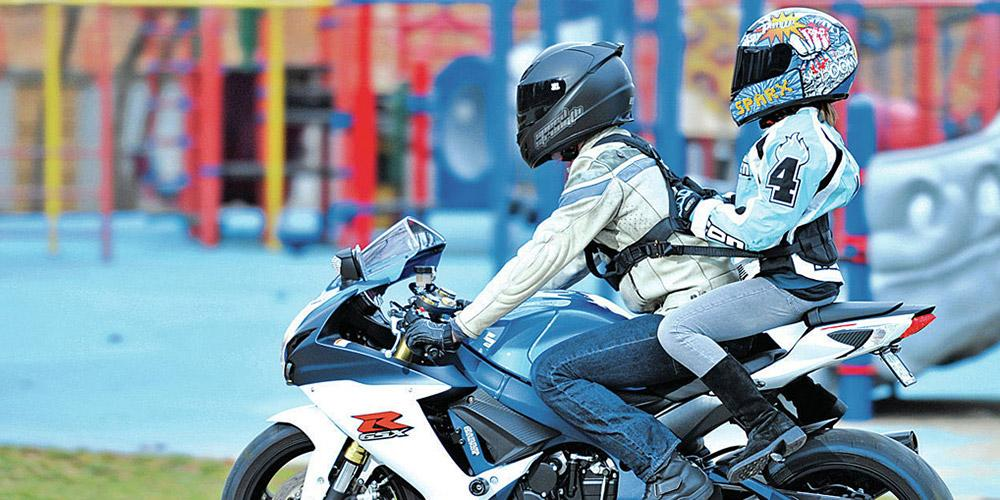helmet: (501, 12, 659, 170), (723, 1, 880, 137)
